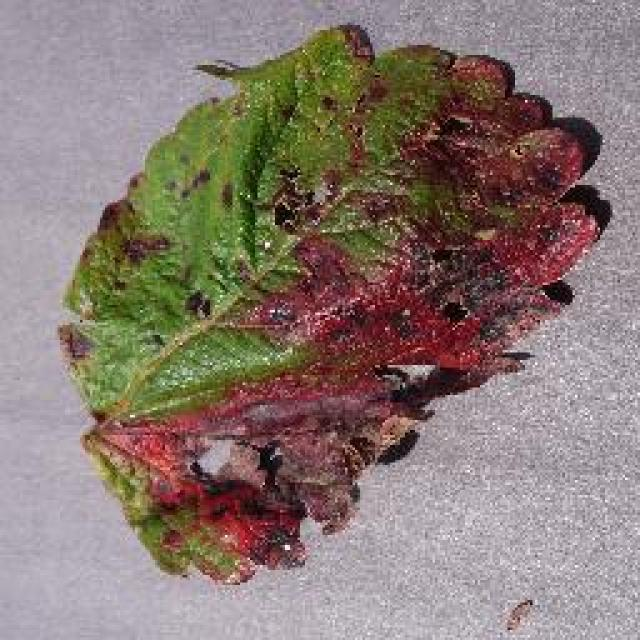Strawberry leaf scorch: (160, 120, 558, 530)
